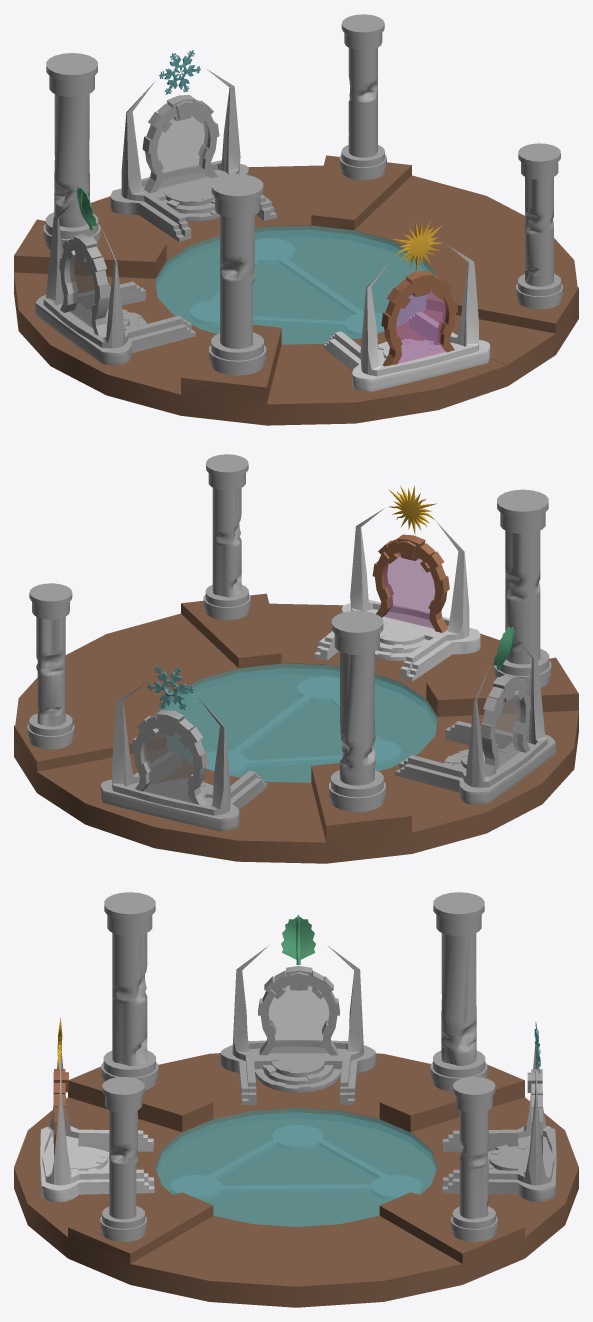
Rendered from PORTALS.fbx.
The picture shows the model from 3 angles, top to bottom: view 1: azimuth 30°, elevation 25°; view 2: azimuth 150°, elevation 25°; view 3: azimuth 270°, elevation 25°; orthographic projection.
Visible parts, largest first — view 1: pCylinder6, pCylinder14, pCylinder16 (×2), pCylinder10, pCylinder1, pCylinder17, pPipe2 (×2), pCylinder20, pCylinder19, pCylinder15 (×2), Sprin, pCylinder9 (+4 smaller); view 2: pCylinder6, pCylinder14, pCylinder16 (×2), pCylinder17, pCylinder1, pCylinder10, pPipe2 (×2), pCylinder19, pCylinder20, pCylinder15 (×2), Sprin, pCylinder3 (+5 smaller); view 3: pCylinder6, pCylinder14, pCylinder16 (×2), pCylinder1, pCylinder17, pCylinder10, pCylinder20, pCylinder19, pCylinder3, Sprin, pCylinder7, pCylinder9 (+3 smaller).
Part boxes in pixels (box(x1,y1,x2,y2)): pCylinder6: box(14, 155, 578, 425); pCylinder14: box(155, 225, 435, 344); pCylinder16 (×2): box(110, 69, 490, 391); pCylinder10: box(209, 174, 266, 375); pCylinder1: box(35, 204, 195, 364); pCylinder17: box(43, 53, 100, 251); pPipe2 (×2): box(142, 94, 458, 366); pCylinder20: box(339, 14, 386, 180); pCylinder19: box(516, 143, 562, 309); pCylinder15 (×2): box(157, 112, 445, 363); Sprin: box(59, 234, 109, 337); pCylinder9: box(255, 239, 362, 314); pCylinder6: box(14, 593, 578, 863); pCylinder14: box(157, 663, 437, 782); pCylinder16 (×2): box(100, 508, 480, 831); pCylinder17: box(329, 610, 385, 812); pCylinder1: box(395, 644, 555, 804); pCylinder10: box(494, 489, 551, 690); pPipe2 (×2): box(131, 534, 449, 805); pCylinder19: box(203, 454, 250, 620); pCylinder20: box(27, 583, 74, 749); pCylinder15 (×2): box(143, 552, 435, 803); Sprin: box(480, 674, 531, 776); pCylinder3: box(495, 697, 520, 768); pCylinder6: box(14, 1053, 578, 1307); pCylinder14: box(155, 1108, 437, 1226); pCylinder16 (×2): box(40, 1045, 556, 1202); pCylinder1: box(220, 945, 376, 1104); pCylinder17: box(430, 892, 487, 1091); pCylinder10: box(101, 892, 158, 1090); pCylinder20: box(450, 1077, 497, 1241); pCylinder19: box(100, 1077, 146, 1241); pCylinder3: box(268, 985, 329, 1053); Sprin: box(258, 966, 339, 1055); pCylinder7: box(208, 1125, 392, 1180); pCylinder9: box(212, 1175, 421, 1199).
Bounding box in the file's own units: 119 × 49.98 × 119.
